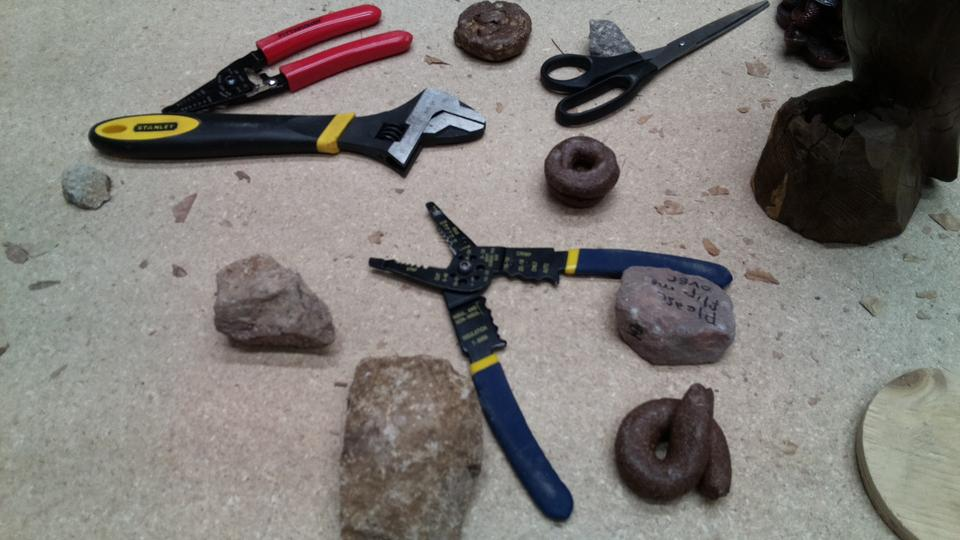poop: (610, 381, 738, 507), (540, 129, 622, 214), (450, 1, 536, 65)
